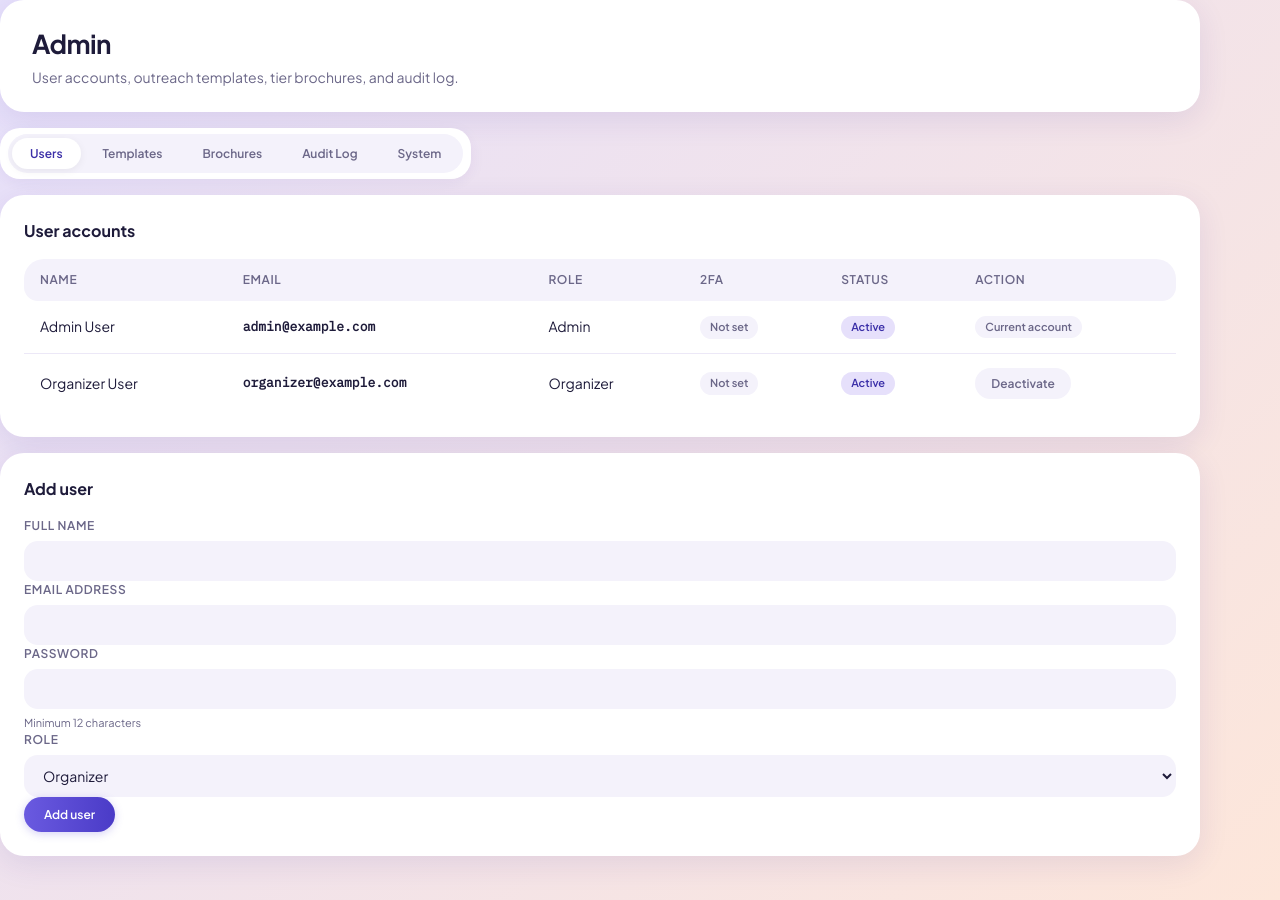
Test: Admin page › renders 2FA status and switches to System tab
The width and height of the screenshot is (1280, 900).
Expected: the column heading "2FA" is shown, [684,259,825,301]
Note: Click System tab
Click the button "System": (419, 154) [380,138,459,169]
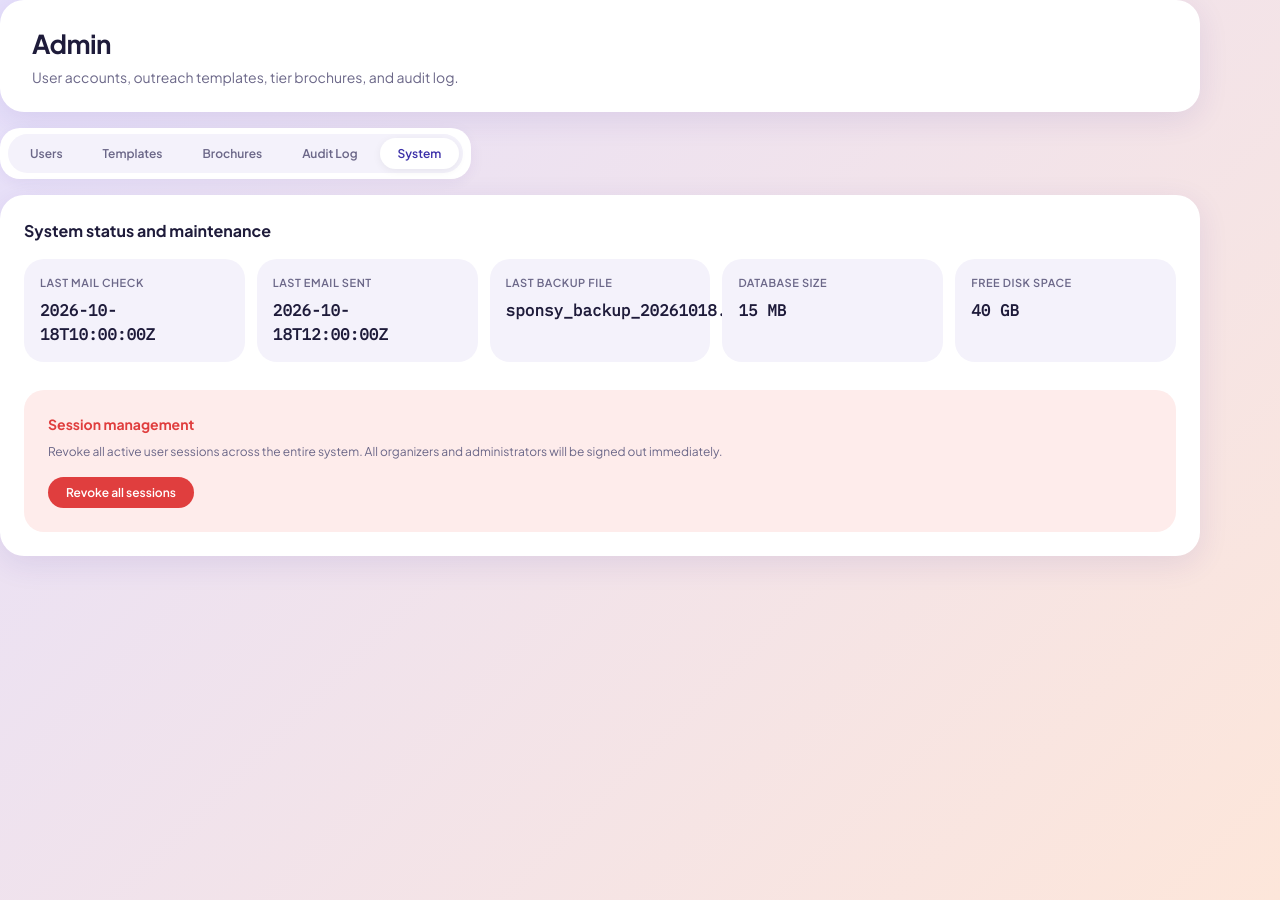
Now the heading "System status and maintenance" is shown, box [24,220,271,241]
Now the text "Last mail check" is shown, box [40,276,144,289]
Now the text "Last email sent" is shown, box [273,276,372,289]
